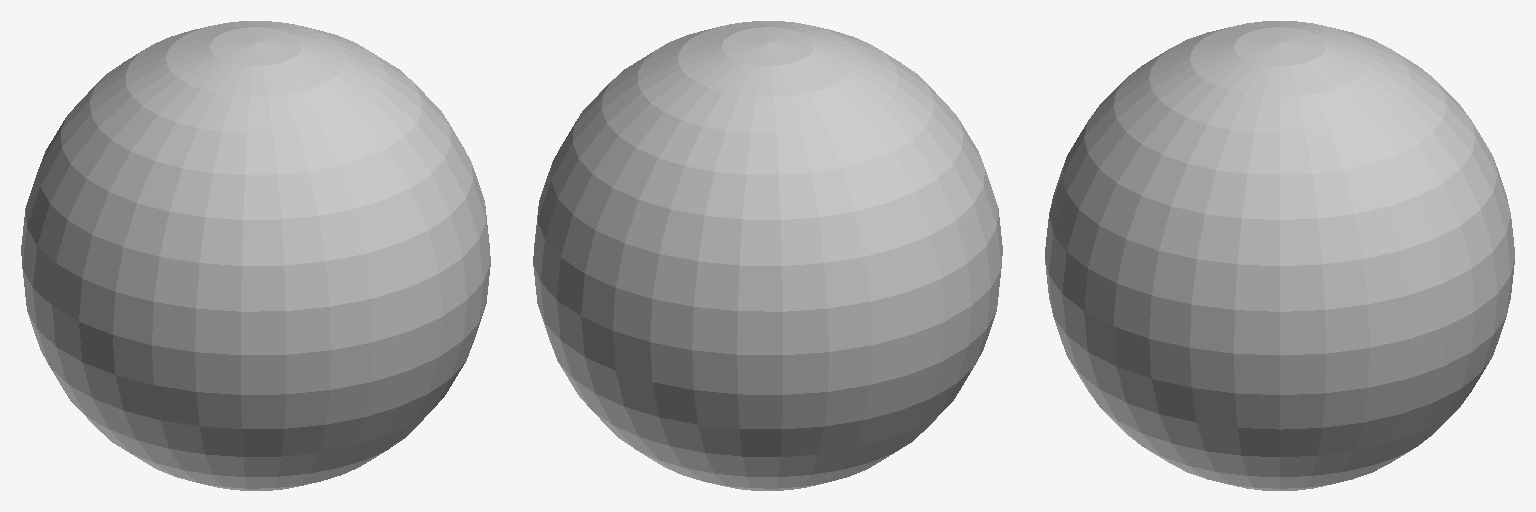
File: AtomicCatalystElectron.obj
The picture shows the model from 3 angles: view 1: azimuth 30°, elevation 25°; view 2: azimuth 150°, elevation 25°; view 3: azimuth 270°, elevation 25°; orthographic projection.
Visible parts, largest first — view 1: Sphere; view 2: Sphere; view 3: Sphere.
Boxes of the visible parts, <box> form: Sphere: <box>21,21,490,490</box>; Sphere: <box>533,21,1002,490</box>; Sphere: <box>1045,21,1514,490</box>.
Bounding box in the file's own units: 0.1 × 0.1 × 0.1.